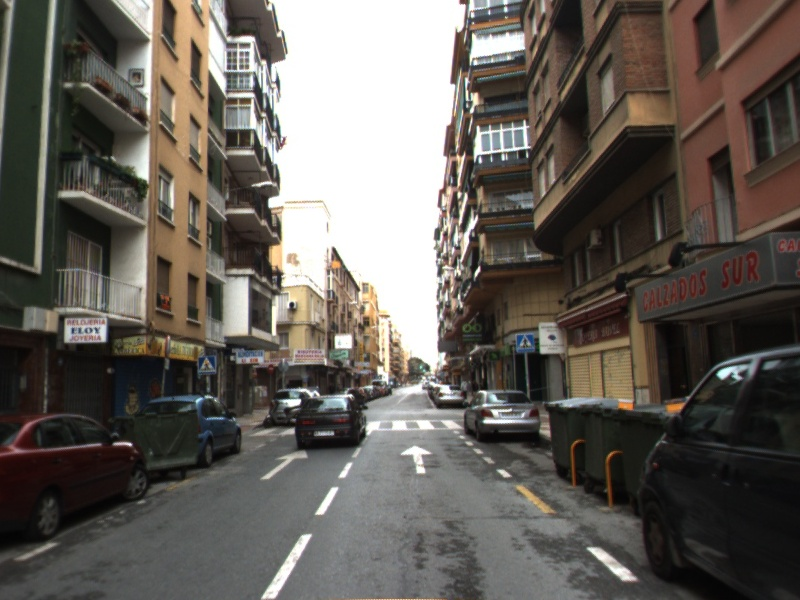STRAIGHT: (258, 447, 311, 482), (399, 443, 435, 475)
